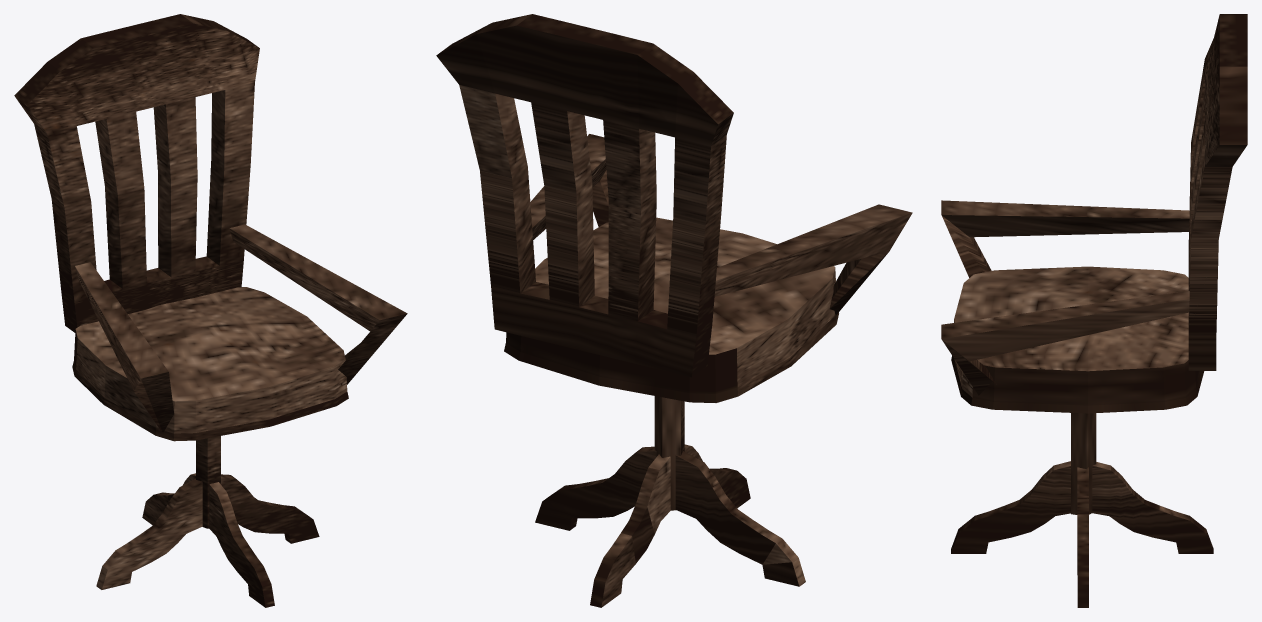
Rendered from Silla.fbx.
3 views of the same model, side by side, from view 1: azimuth 30°, elevation 25°; view 2: azimuth 150°, elevation 25°; view 3: azimuth 270°, elevation 25° (orthographic). The views are drawn at different scales.
Visible parts, largest first — view 1: Cube; view 2: Cube; view 3: Cube.
Boxes of the visible parts, x1,y1,x2,y2 form: Cube: (14, 14, 407, 607); Cube: (436, 14, 912, 607); Cube: (941, 14, 1247, 607).
Bounding box in the file's own units: 212 × 363 × 197.
